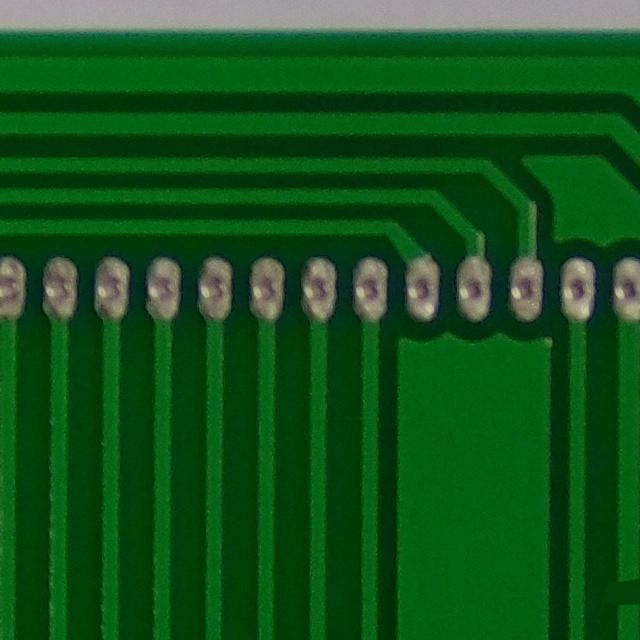open_circuit: (600, 564, 640, 623)
